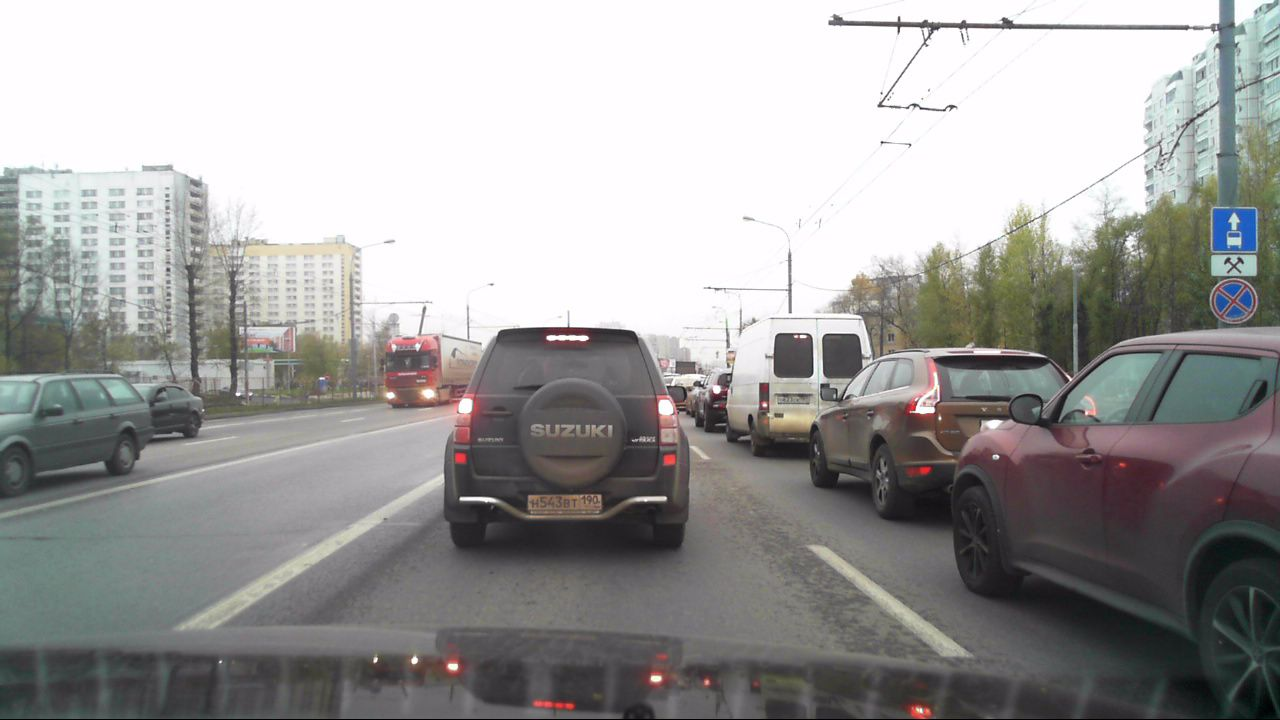No Parking: (1208, 278, 1259, 324)
